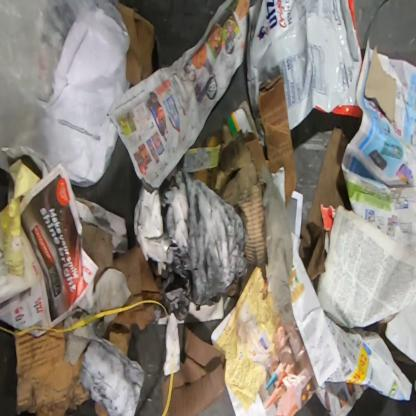cardboard: (180, 73, 297, 268), (15, 321, 90, 415), (162, 326, 225, 416), (364, 44, 397, 122), (103, 323, 132, 356)
soft_plastic: (0, 0, 130, 188), (245, 0, 363, 133)
